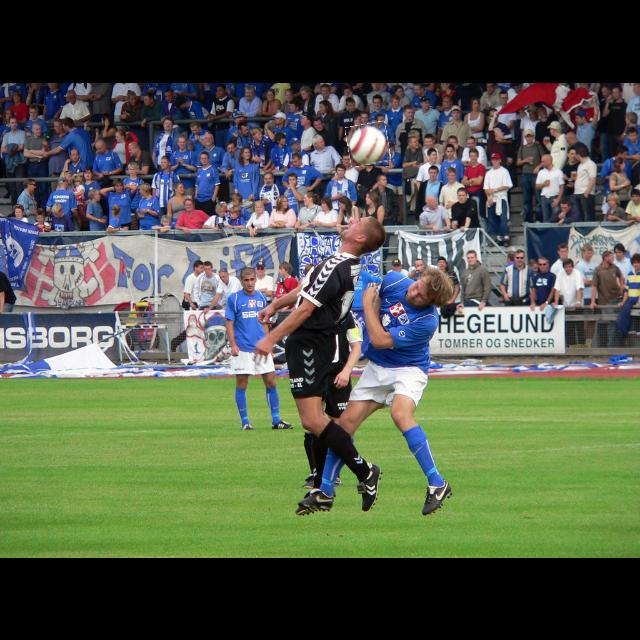Football: (347, 122, 389, 166)
